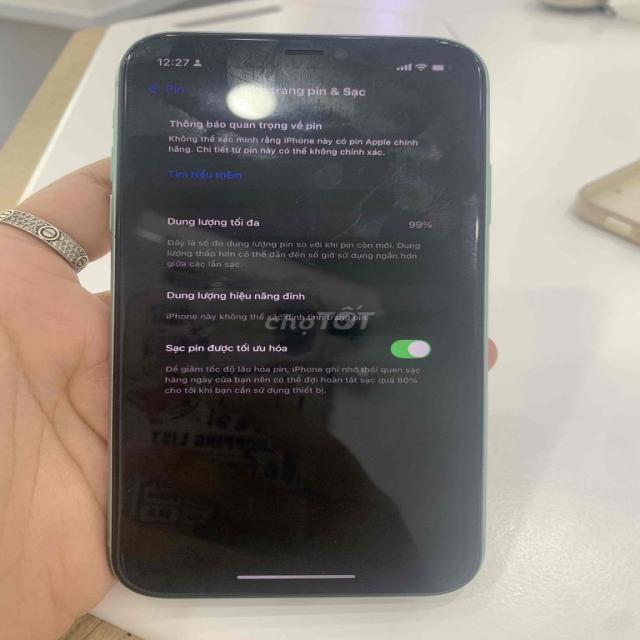scratch: (300, 168, 389, 270)
